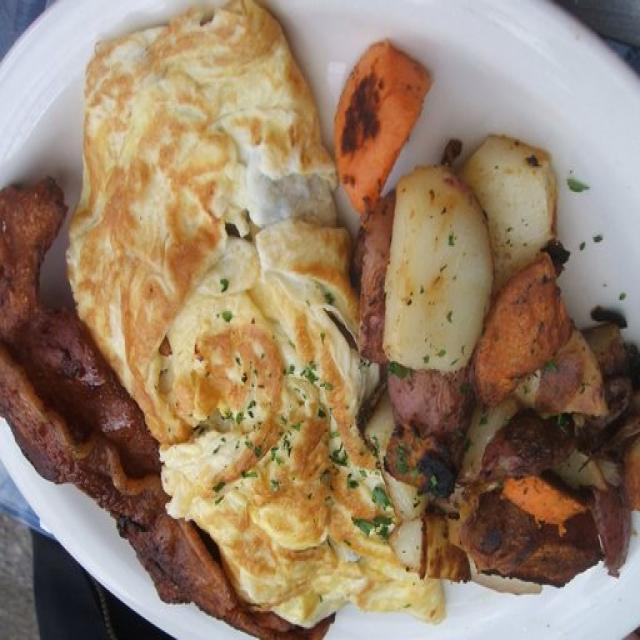telur_ayam_dadar: (64, 0, 455, 634)
